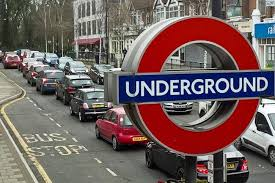London Underground: (116, 15, 275, 150)
